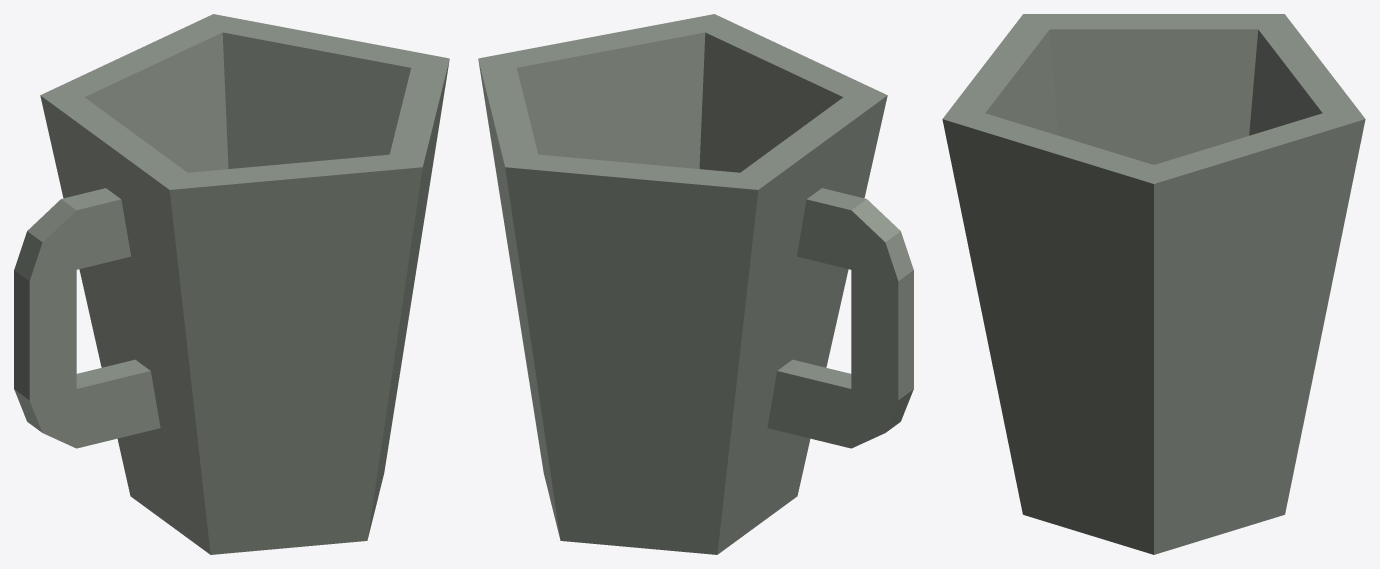
File: cup_empty_handle_2.fbx
The picture shows the model from 3 angles, left to right: view 1: azimuth 30°, elevation 25°; view 2: azimuth 150°, elevation 25°; view 3: azimuth 270°, elevation 25°; orthographic projection.
Parts seen in each view (by area): view 1: cup_empty_handle_2; view 2: cup_empty_handle_2; view 3: cup_empty_handle_2.
Boxes of the visible parts, box(x1,y1,x2,y2) form: cup_empty_handle_2: box(14, 14, 449, 554); cup_empty_handle_2: box(478, 14, 913, 554); cup_empty_handle_2: box(942, 14, 1365, 554).
Size of the model in its own units: 0.7502 by 0.6685 by 0.6358.
